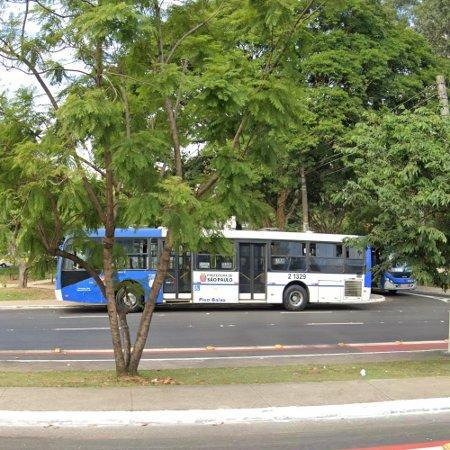buses: (158, 231, 372, 311), (116, 229, 166, 312), (58, 261, 106, 305)
